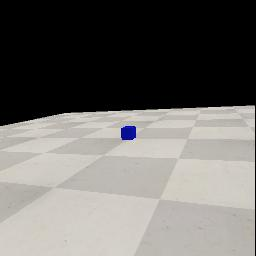box: (121, 126, 136, 140)
